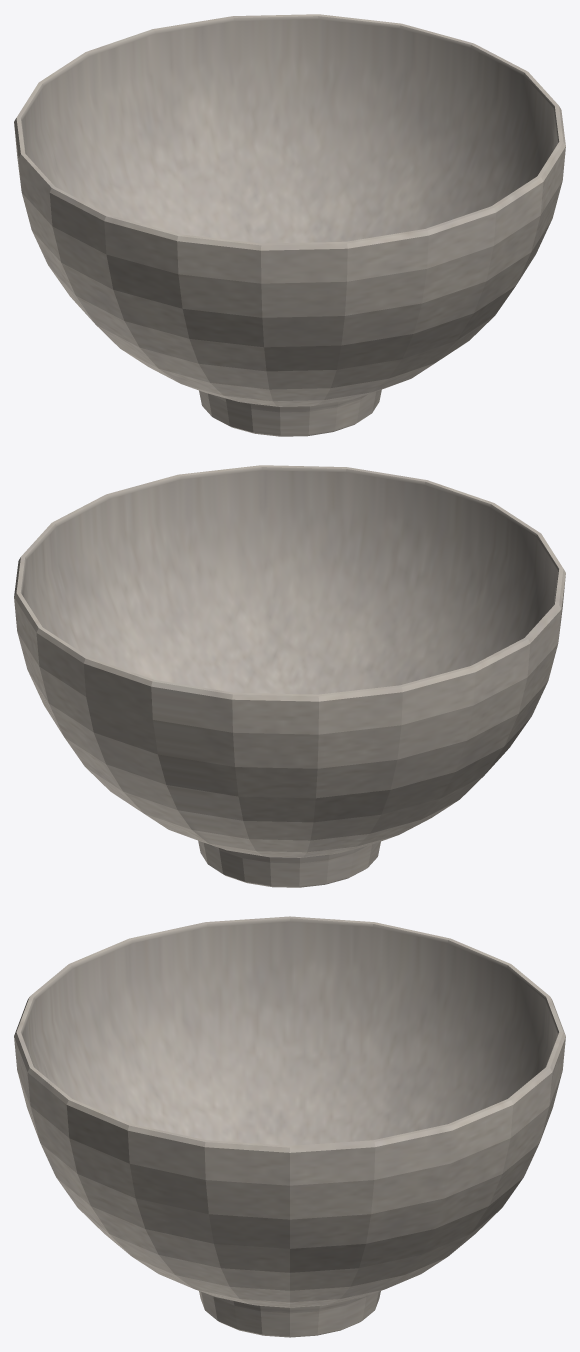
File: bowl_porcelain.fbx
3 renders of one model, top to bottom at view 1: azimuth 30°, elevation 25°; view 2: azimuth 150°, elevation 25°; view 3: azimuth 270°, elevation 25°, orthographic.
Visible parts, largest first — view 1: bowl_porcelain; view 2: bowl_porcelain; view 3: bowl_porcelain.
Part boxes in pixels (left/top/right/bottom): bowl_porcelain: left=14, top=14, right=565, bottom=436; bowl_porcelain: left=14, top=465, right=565, bottom=887; bowl_porcelain: left=14, top=916, right=565, bottom=1337.
Size of the model in its own units: 22.78 by 12.25 by 22.78.
Materials: 1 (1 with a texture image).
